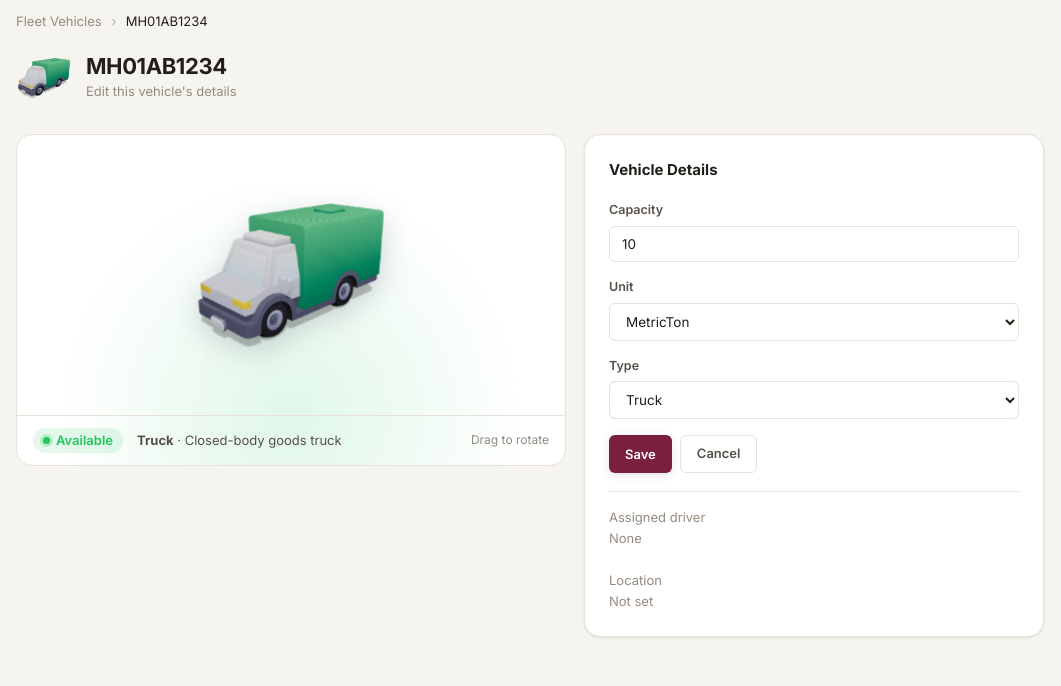
Test: VehicleDetail page › prefills the form and saves an edited capacity and unit
The width and height of the screenshot is (1061, 686).
Replace the text in the number field labelled "Capacity" with "25": coordinates (814, 244) [609,226,1019,262]
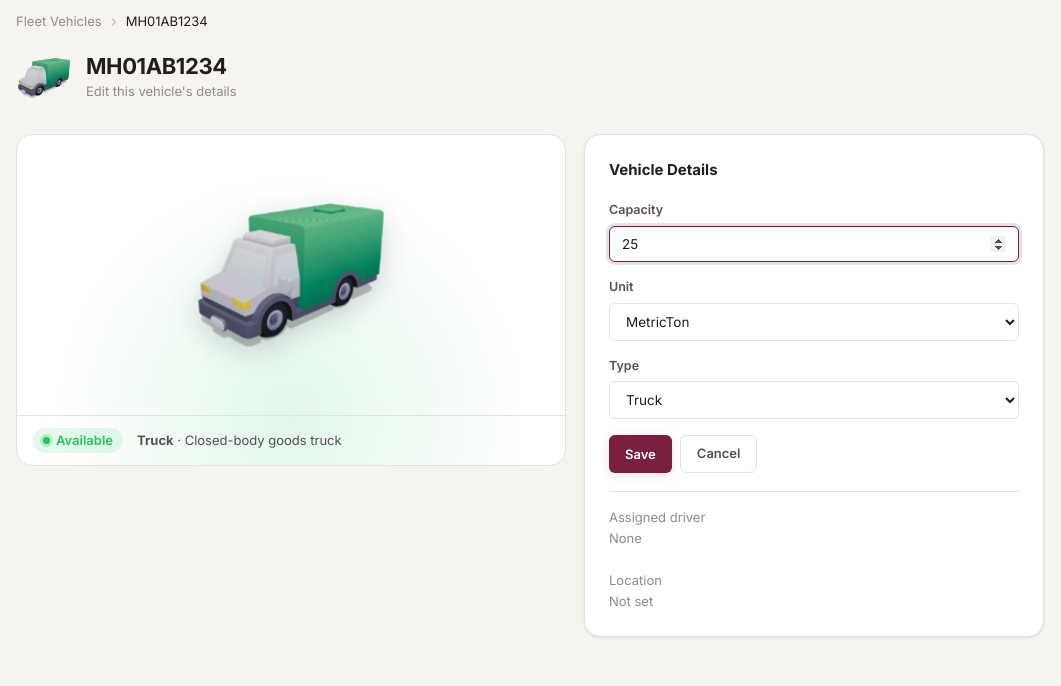
Select "Box" in the dropdown labelled "Unit": coordinates (814, 322) [609,302,1019,340]
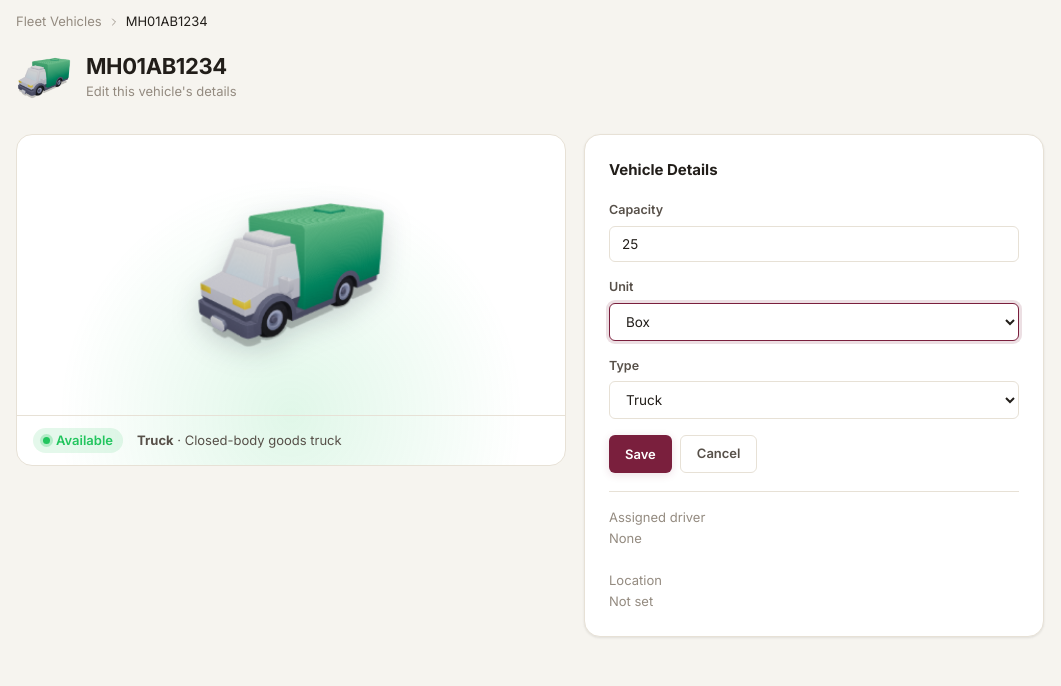
Select "Pickup" in the dropdown labelled "Type": coordinates (814, 400) [609,381,1019,419]
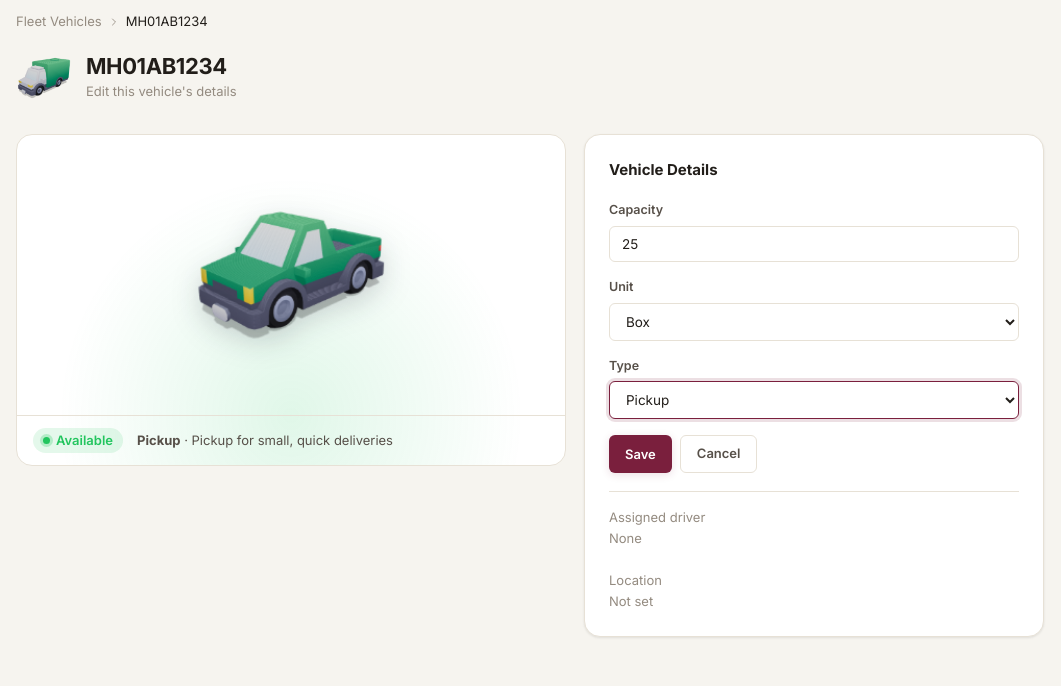
Click the button "Save": coordinates (640, 454) [609,435,672,473]
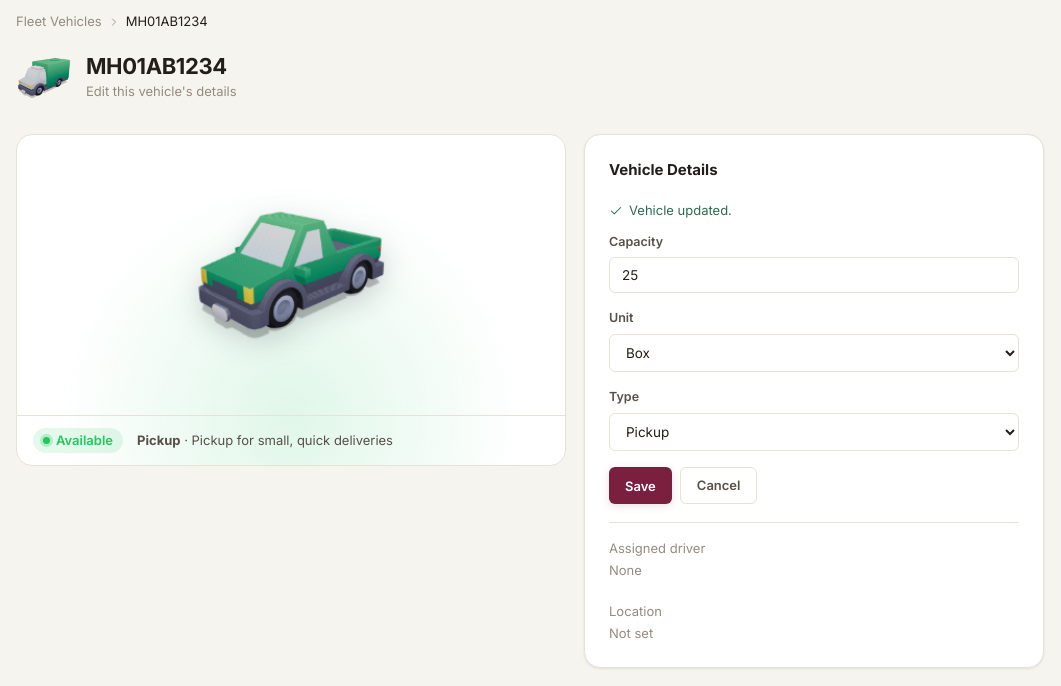
Expected: the text "Vehicle updated." is shown, [609,202,732,218]
